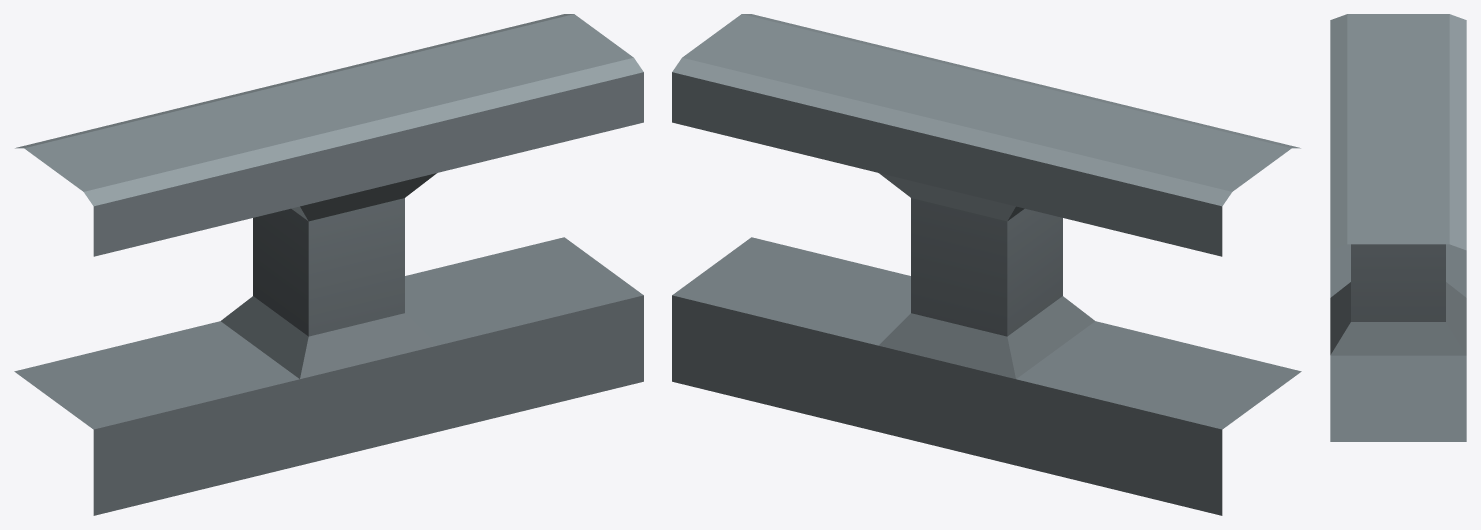
The model's file is barrier_half2.glb.
3 views of the same model, side by side, from view 1: azimuth 30°, elevation 25°; view 2: azimuth 150°, elevation 25°; view 3: azimuth 270°, elevation 25° (orthographic). The views are drawn at different scales.
Visible parts, largest first — view 1: barrier_half; view 2: barrier_half; view 3: barrier_half.
Part boxes in pixels (x1,y1,x2,y2): barrier_half: (14,14,643,515); barrier_half: (672,14,1301,515); barrier_half: (1330,14,1466,441).
Size of the model in its own units: 1 by 0.55 by 0.25.
Materials: 1 (1 with a texture image).
